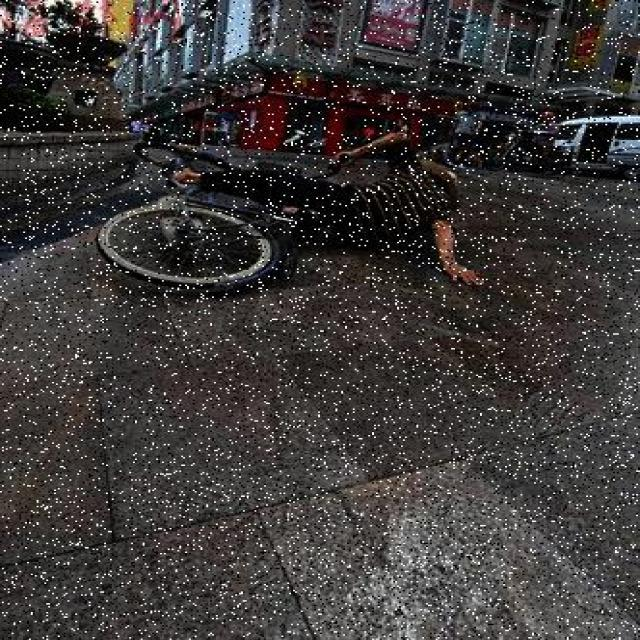fall: (176, 143, 490, 273)
